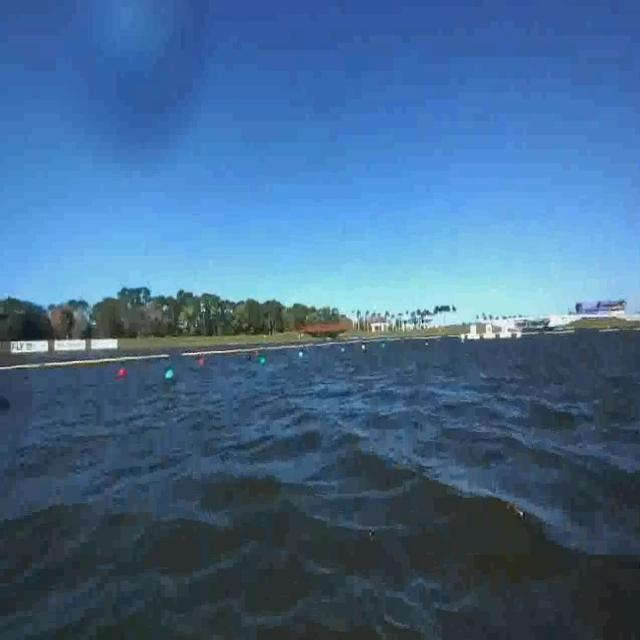green-buoy: (164, 365, 176, 379)
red-buoy: (115, 366, 128, 381)
